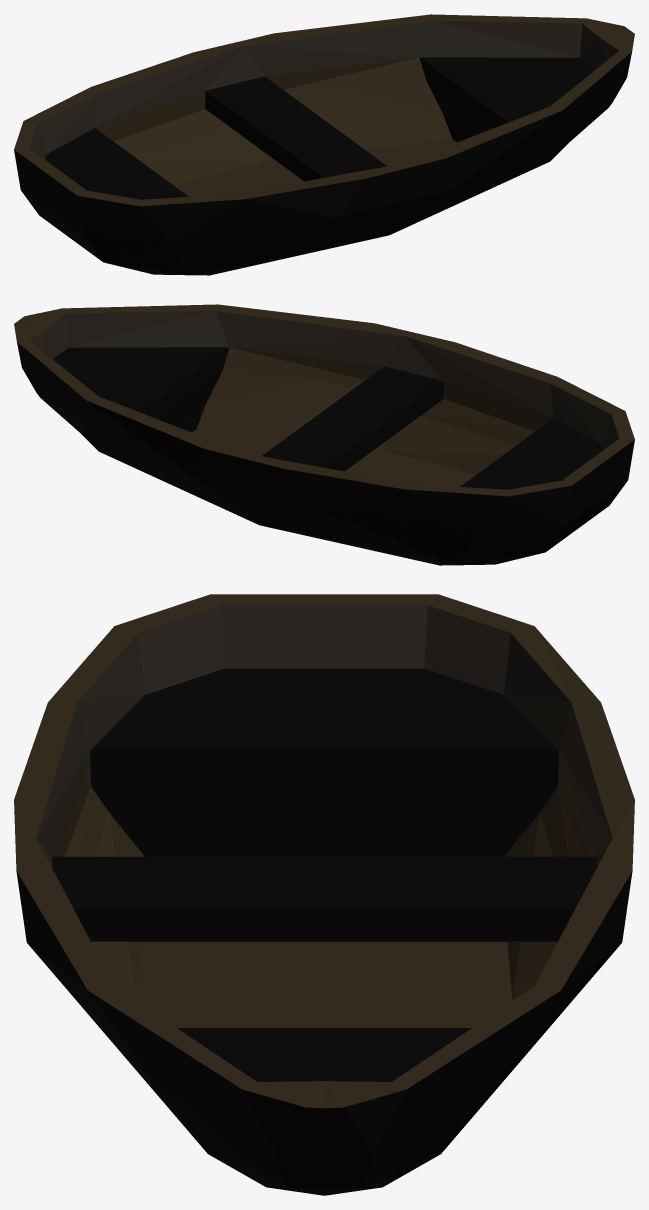
File: RowBoat.obj
The picture shows the model from 3 angles, top to bottom: view 1: azimuth 30°, elevation 25°; view 2: azimuth 150°, elevation 25°; view 3: azimuth 270°, elevation 25°; orthographic projection. The views are drawn at different scales.
Parts seen in each view (by area): view 1: Cube; view 2: Cube; view 3: Cube.
Part boxes in pixels (box(x1,y1,x2,y2)): Cube: box(14, 14, 634, 275); Cube: box(14, 304, 634, 565); Cube: box(14, 594, 634, 1195).
Bounding box in the file's own units: 1.86 × 0.3412 × 0.9489.
